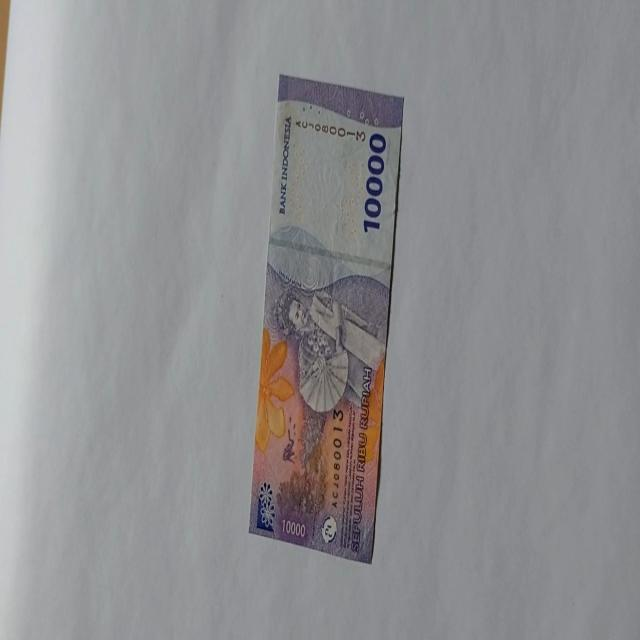sepuluh ribu rupiah: (247, 72, 405, 564)
